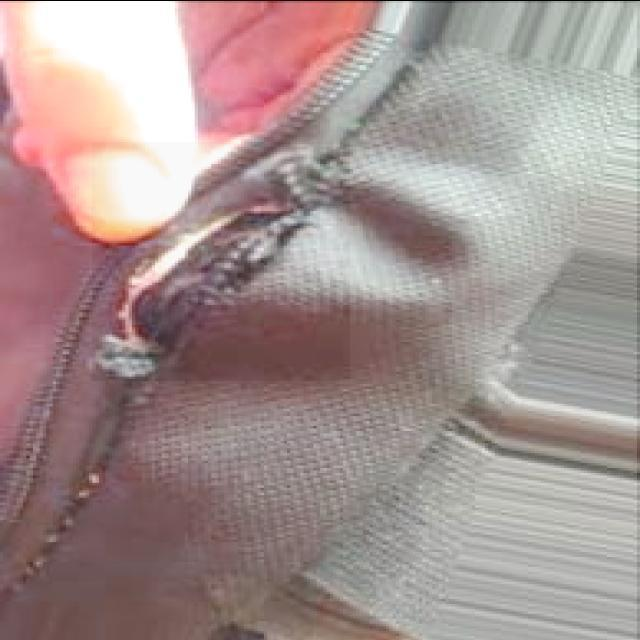Damage-bag: (96, 148, 339, 380)
